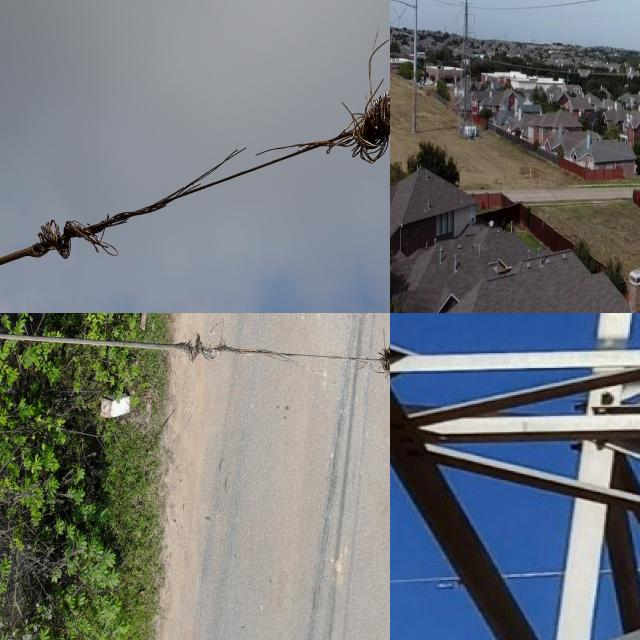杆塔: (390, 313, 640, 640), (451, 0, 479, 138)
正常绝缘子: (456, 14, 459, 24), (474, 13, 476, 24), (474, 32, 476, 43), (455, 31, 457, 42)
电缆破损: (31, 62, 390, 292), (170, 314, 390, 388)
